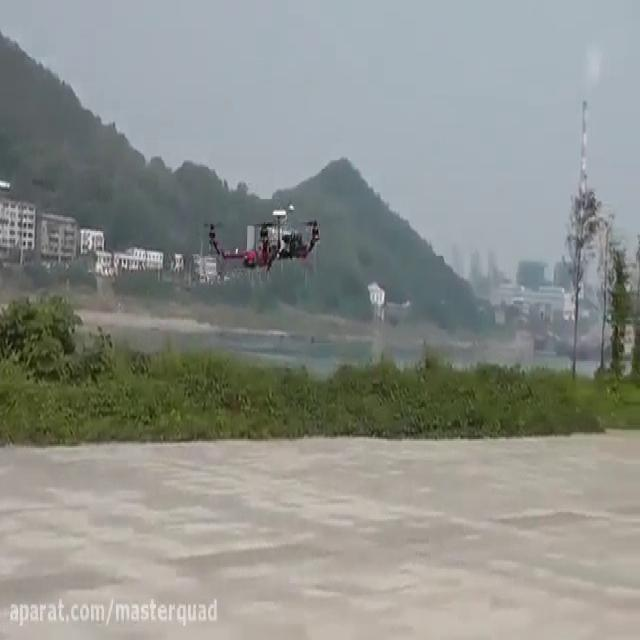drone: (199, 196, 325, 279)
